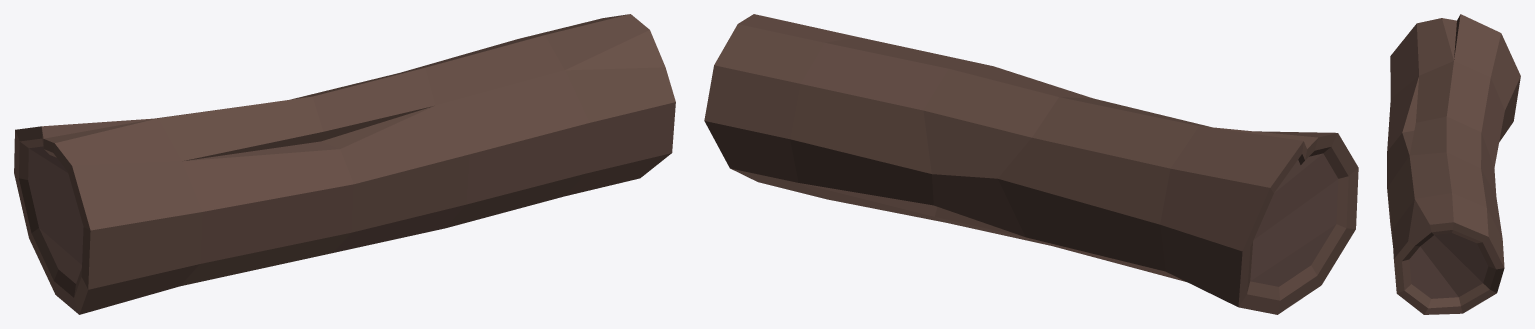
File: wood_log.glb
The picture shows the model from 3 angles, left to right: view 1: azimuth 30°, elevation 25°; view 2: azimuth 150°, elevation 25°; view 3: azimuth 270°, elevation 25°; orthographic projection. The views are drawn at different scales.
Parts seen in each view (by area): view 1: WoodLog; view 2: WoodLog; view 3: WoodLog.
Boxes of the visible parts, x1=… form: WoodLog: x1=14, y1=14, x2=675, y2=314; WoodLog: x1=704, y1=14, x2=1358, y2=314; WoodLog: x1=1387, y1=14, x2=1520, y2=314.
Bounding box in the file's own units: 3.77 × 1.09 × 1.11.
